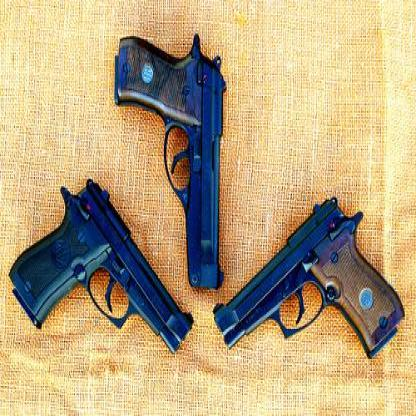pistol: (210, 192, 404, 371), (9, 174, 191, 354), (111, 34, 225, 288)
